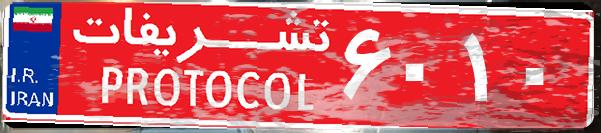0: (400, 20, 460, 115), (520, 20, 580, 115)
1: (460, 20, 520, 115)
6: (340, 20, 400, 115)
تشریفات: (60, 8, 340, 125)
